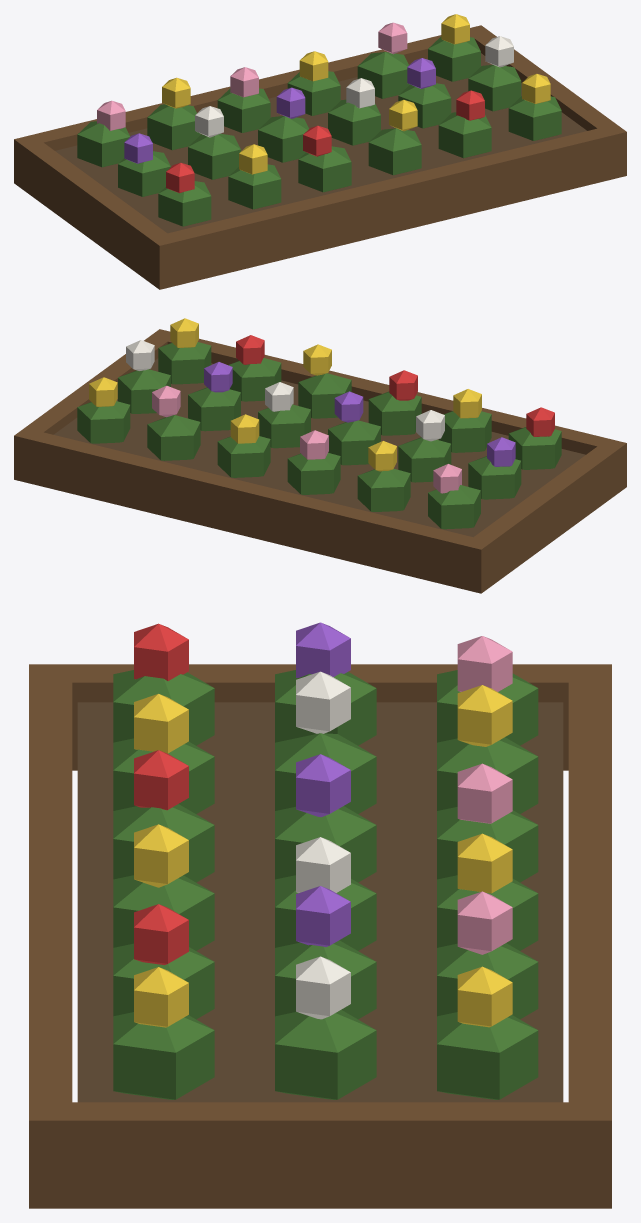
Rendered from flower_bed.glb.
The picture shows the model from 3 angles, top to bottom: view 1: azimuth 30°, elevation 25°; view 2: azimuth 150°, elevation 25°; view 3: azimuth 270°, elevation 25°; orthographic projection. The views are drawn at different scales.
Visible parts, largest first — view 1: flower_bed; view 2: flower_bed; view 3: flower_bed.
Boxes of the visible parts, x1,y1,x2,y2 form: flower_bed: (14, 14, 626, 289); flower_bed: (14, 318, 626, 593); flower_bed: (29, 622, 611, 1208).
Size of the model in its own units: 2 by 0.4114 by 1.08.
